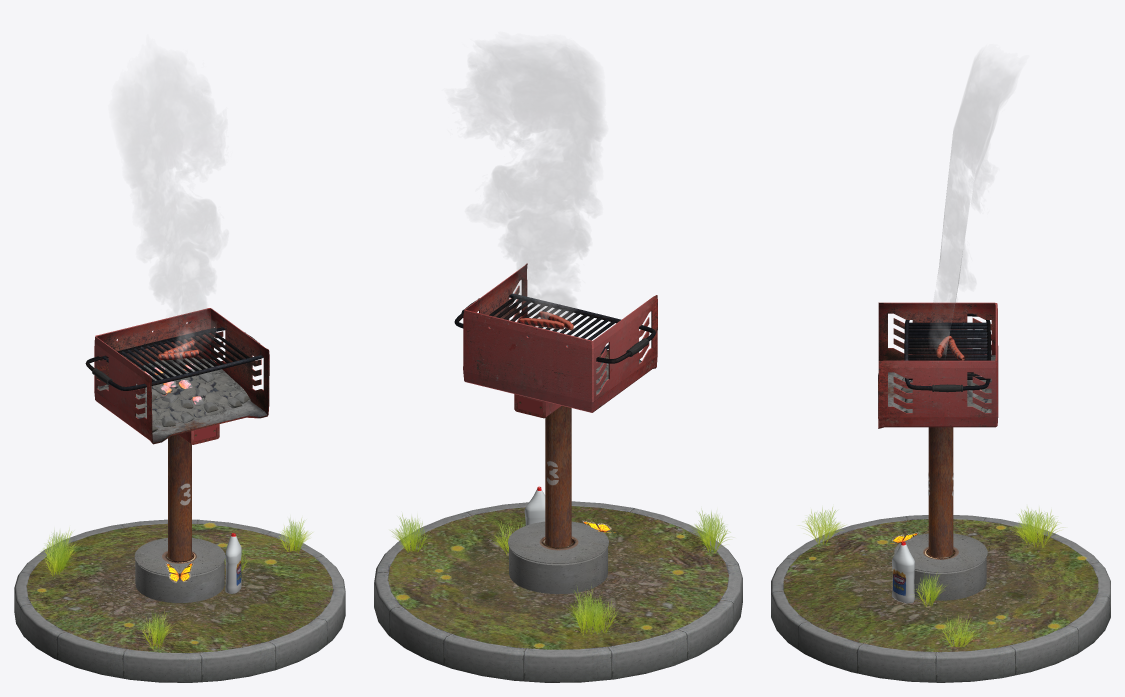
The model's file is park_bbq_grill.glb.
3 renders of one model, left to right at view 1: azimuth 30°, elevation 25°; view 2: azimuth 150°, elevation 25°; view 3: azimuth 270°, elevation 25°, orthographic. The views are drawn at different scales.
Visible parts, largest first — view 1: pCylinder17, pPlane2, pCylinder16, polySurface5, pPlane1, polySurface6, pCube1, pCylinder31, pCube7, pCube45, pCube40, pCube42 (+3 smaller); view 2: pCylinder17, pPlane2, pCylinder16, polySurface6, polySurface5, pCube1, pCylinder31, pCube42, pCube40, pCube7, pCube41, pCube2 (+2 smaller); view 3: pCylinder17, polySurface5, pPlane2, pCylinder16, pCylinder31, pCube1, pCube45, pCube42, pCube40, pCube41, pCube7, pCube44 (+1 smaller).
Boxes of the visible parts, x1=… form: pCylinder17: x1=14, y1=519, x2=345, y2=682; pPlane2: x1=117, y1=56, x2=223, y2=364; pCylinder16: x1=134, y1=434, x2=225, y2=602; polySurface5: x1=94, y1=308, x2=269, y2=433; pPlane1: x1=97, y1=358, x2=250, y2=425; polySurface6: x1=94, y1=308, x2=210, y2=390; pCube1: x1=94, y1=376, x2=269, y2=444; pCylinder31: x1=102, y1=329, x2=249, y2=381; pCube7: x1=85, y1=327, x2=263, y2=390; pCube45: x1=225, y1=533, x2=241, y2=593; pCube40: x1=140, y1=609, x2=174, y2=649; pCube42: x1=40, y1=527, x2=81, y2=570; pCylinder17: x1=374, y1=501, x2=742, y2=682; pPlane2: x1=461, y1=45, x2=602, y2=328; pCylinder16: x1=508, y1=405, x2=608, y2=594; polySurface6: x1=463, y1=309, x2=593, y2=402; polySurface5: x1=465, y1=263, x2=657, y2=401; pCube1: x1=463, y1=345, x2=657, y2=412; pCylinder31: x1=489, y1=295, x2=616, y2=354; pCube42: x1=563, y1=586, x2=609, y2=635; pCube40: x1=690, y1=510, x2=730, y2=553; pCube7: x1=454, y1=293, x2=655, y2=363; pCube41: x1=390, y1=514, x2=429, y2=552; pCube2: x1=514, y1=394, x2=561, y2=418; pCylinder17: x1=771, y1=515, x2=1110, y2=682; polySurface5: x1=878, y1=302, x2=996, y2=418; pPlane2: x1=929, y1=56, x2=1015, y2=355; pCylinder16: x1=894, y1=427, x2=987, y2=600; pCylinder31: x1=907, y1=322, x2=987, y2=379; pCube1: x1=878, y1=358, x2=998, y2=428; pCube45: x1=892, y1=541, x2=915, y2=603; pCube42: x1=1013, y1=506, x2=1062, y2=547; pCube40: x1=799, y1=507, x2=845, y2=544; pCube41: x1=938, y1=614, x2=981, y2=646; pCube7: x1=904, y1=313, x2=991, y2=390; pCube44: x1=915, y1=572, x2=945, y2=606.
Bounding box in the file's own units: 0.103 × 0.1883 × 0.101.
16 materials, 15 textured.
